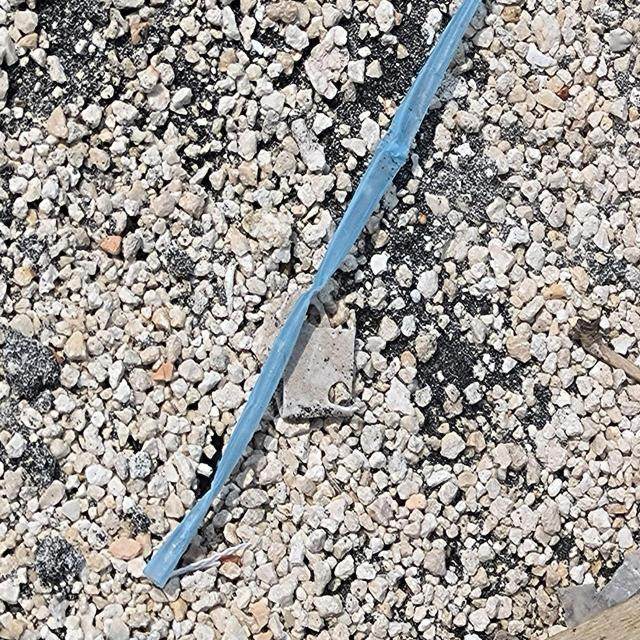plastic_waste: (141, 1, 484, 593)
